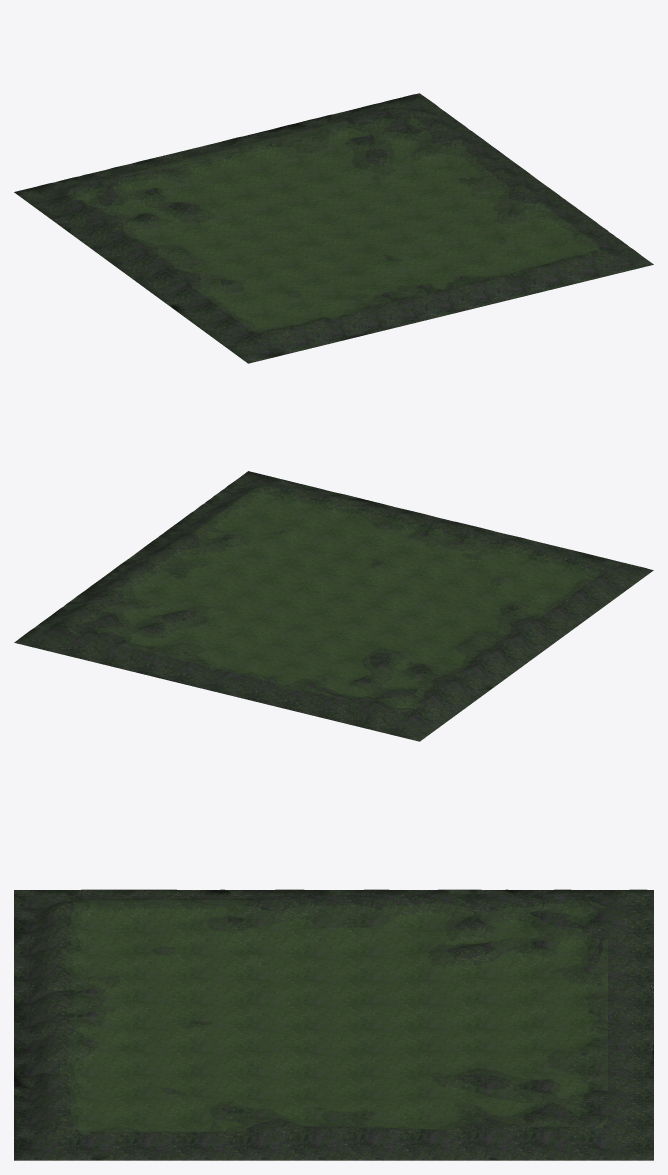
Rendered from Floor.glb.
3 views of the same model, one above another, from view 1: azimuth 30°, elevation 25°; view 2: azimuth 150°, elevation 25°; view 3: azimuth 270°, elevation 25° (orthographic). The views are drawn at different scales.
Visible parts, largest first — view 1: Floor, Fog_Layer_Low_02, Fog_Layer_Low_01; view 2: Floor, Fog_Layer_Low_02, Fog_Layer_Low_01; view 3: Floor, Fog_Layer_Low_02, Fog_Layer_Low_01.
Boxes of the visible parts, bbox=[...] form: Floor: bbox=[14, 93, 653, 363]; Fog_Layer_Low_02: bbox=[68, 109, 599, 332]; Fog_Layer_Low_01: bbox=[79, 129, 597, 330]; Floor: bbox=[14, 471, 653, 741]; Fog_Layer_Low_02: bbox=[68, 488, 599, 711]; Fog_Layer_Low_01: bbox=[124, 493, 595, 707]; Floor: bbox=[14, 889, 653, 1160]; Fog_Layer_Low_02: bbox=[60, 900, 607, 1130]; Fog_Layer_Low_01: bbox=[70, 904, 607, 1134].
Size of what is drawn, in the model's own units: 64 by 15.37 by 64.
Materials: 2 (2 with a texture image).
